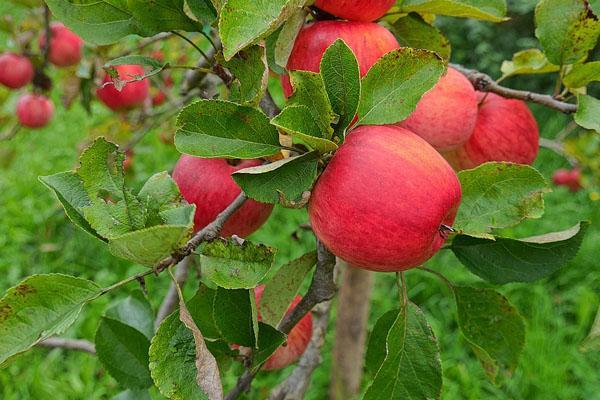apple: (308, 121, 461, 271), (172, 143, 277, 240), (282, 20, 398, 77), (456, 89, 538, 167), (400, 68, 477, 149)
